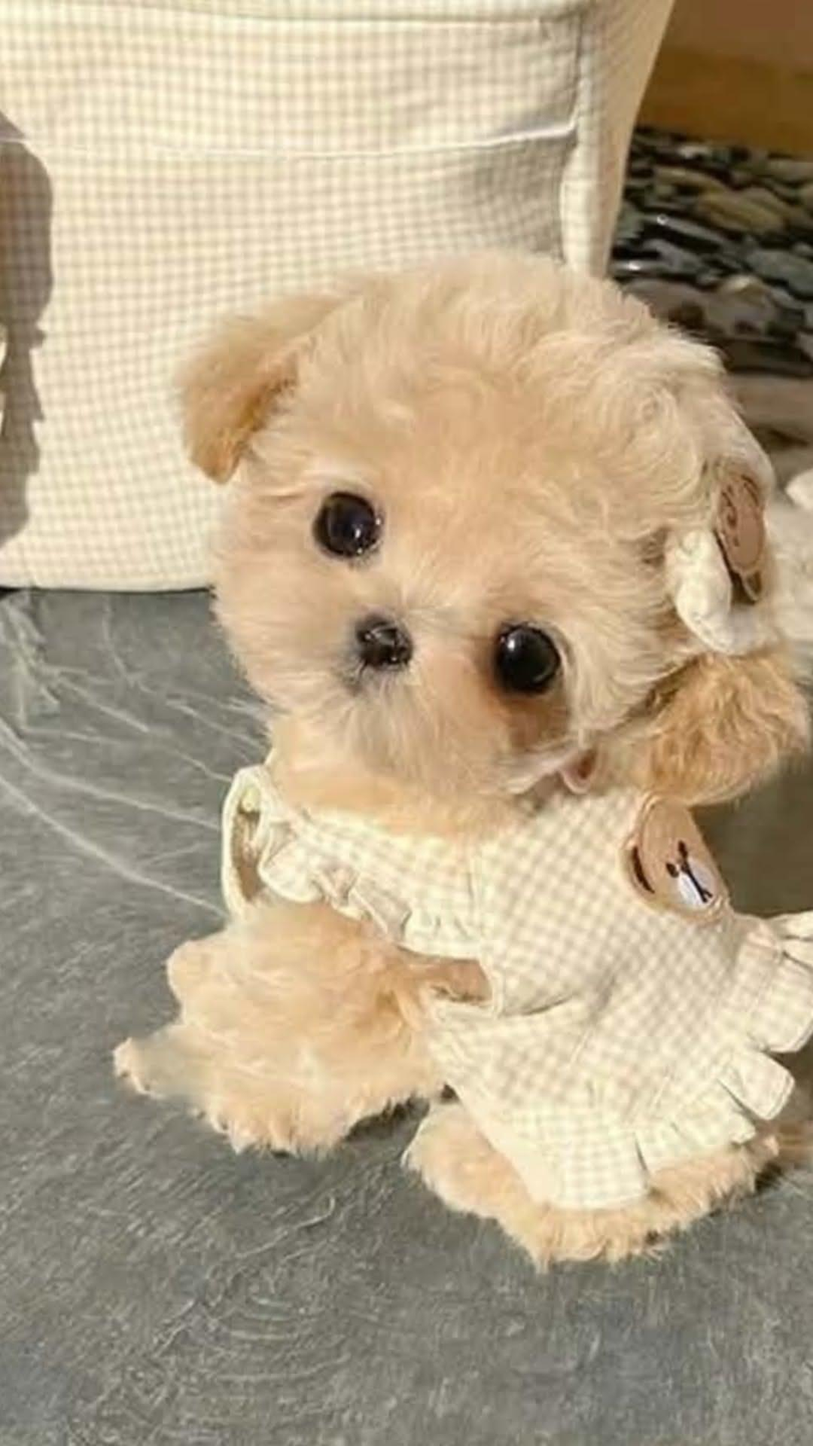puppy-dog: (109, 254, 813, 1271)
